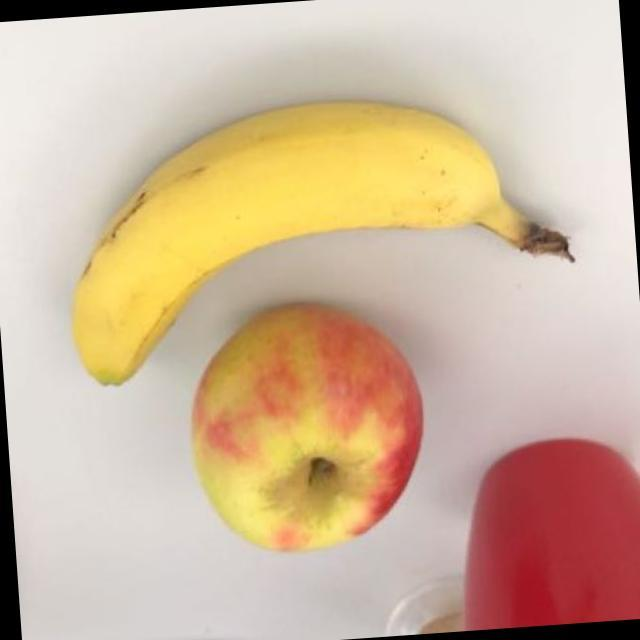Apple: (177, 291, 441, 569)
Banana: (54, 78, 584, 400)
